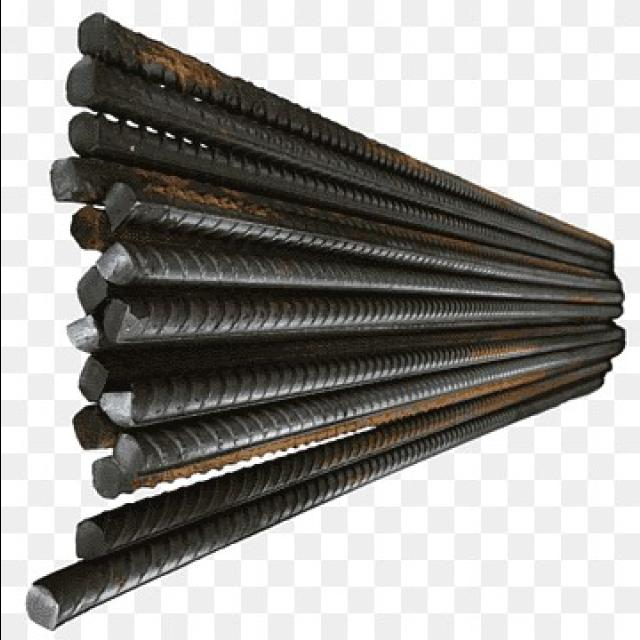Rebar: (21, 585, 67, 639), (99, 298, 143, 348), (62, 106, 104, 158), (74, 517, 117, 567), (58, 55, 104, 101), (114, 438, 158, 486), (99, 383, 141, 429), (72, 355, 108, 408), (83, 452, 125, 497), (99, 237, 135, 285), (50, 165, 86, 211), (71, 406, 111, 445), (69, 205, 107, 246), (62, 317, 98, 358), (72, 13, 108, 53), (104, 180, 133, 222), (77, 269, 109, 305)
